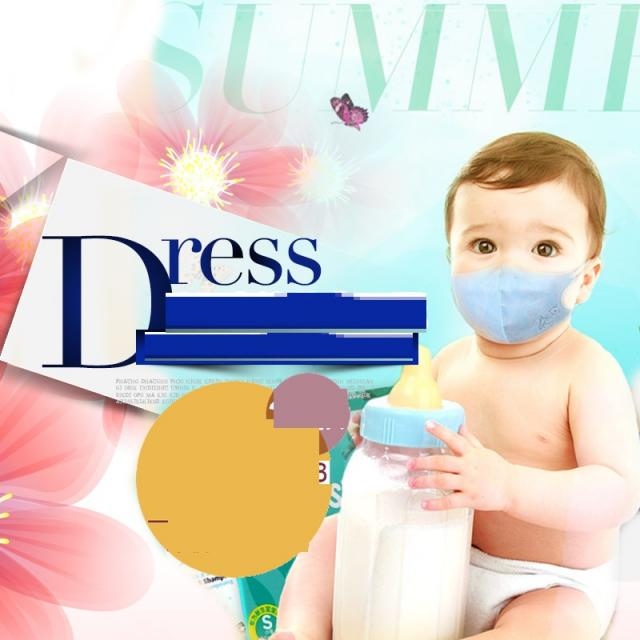mask: (452, 170, 583, 337)
